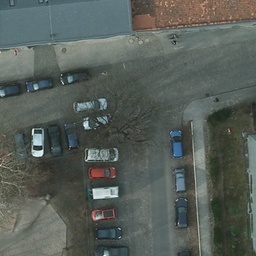car: (74, 94, 106, 114), (60, 68, 89, 87), (62, 121, 79, 152), (48, 124, 65, 155), (30, 123, 45, 158), (26, 75, 53, 93), (175, 197, 189, 231), (86, 148, 117, 163), (84, 114, 115, 129), (14, 128, 26, 164), (169, 130, 182, 160), (91, 206, 116, 221), (1, 132, 12, 165), (173, 166, 186, 192), (1, 81, 24, 95), (91, 167, 117, 179), (93, 228, 121, 238)
